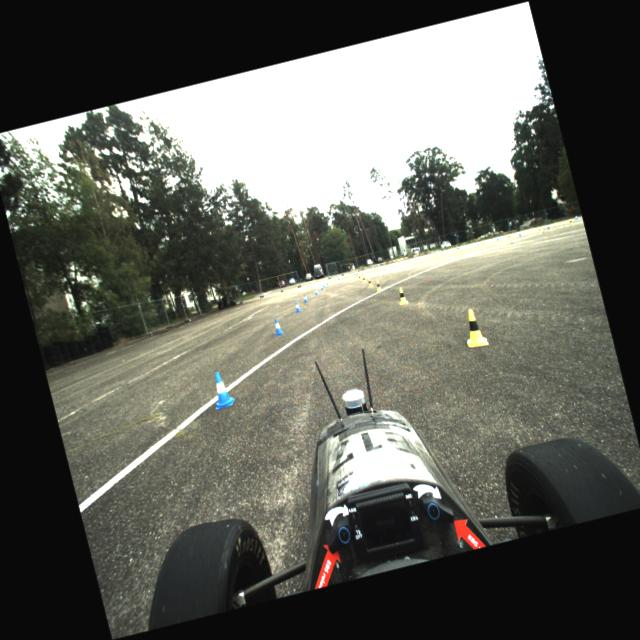blue_cone: (207, 370, 235, 408), (272, 317, 284, 335), (293, 300, 301, 312), (302, 294, 308, 302), (314, 287, 318, 295), (320, 284, 324, 290), (518, 230, 522, 235), (546, 223, 550, 228), (574, 214, 578, 219), (325, 280, 329, 284), (495, 236, 499, 240), (322, 282, 325, 286), (328, 278, 331, 282), (388, 262, 391, 266), (409, 256, 412, 260), (337, 276, 339, 280), (436, 250, 438, 254), (457, 245, 459, 249), (476, 240, 478, 244), (354, 271, 356, 274)
yellow_cone: (459, 306, 489, 349), (396, 286, 408, 304), (374, 280, 382, 292), (361, 274, 367, 283), (367, 277, 372, 287), (506, 234, 512, 240), (568, 218, 573, 225), (358, 274, 362, 280), (481, 240, 485, 245), (455, 246, 459, 250), (366, 268, 369, 272), (356, 274, 358, 278), (384, 263, 386, 267), (372, 266, 374, 270), (408, 257, 410, 261), (434, 251, 436, 255), (356, 272, 358, 276)
